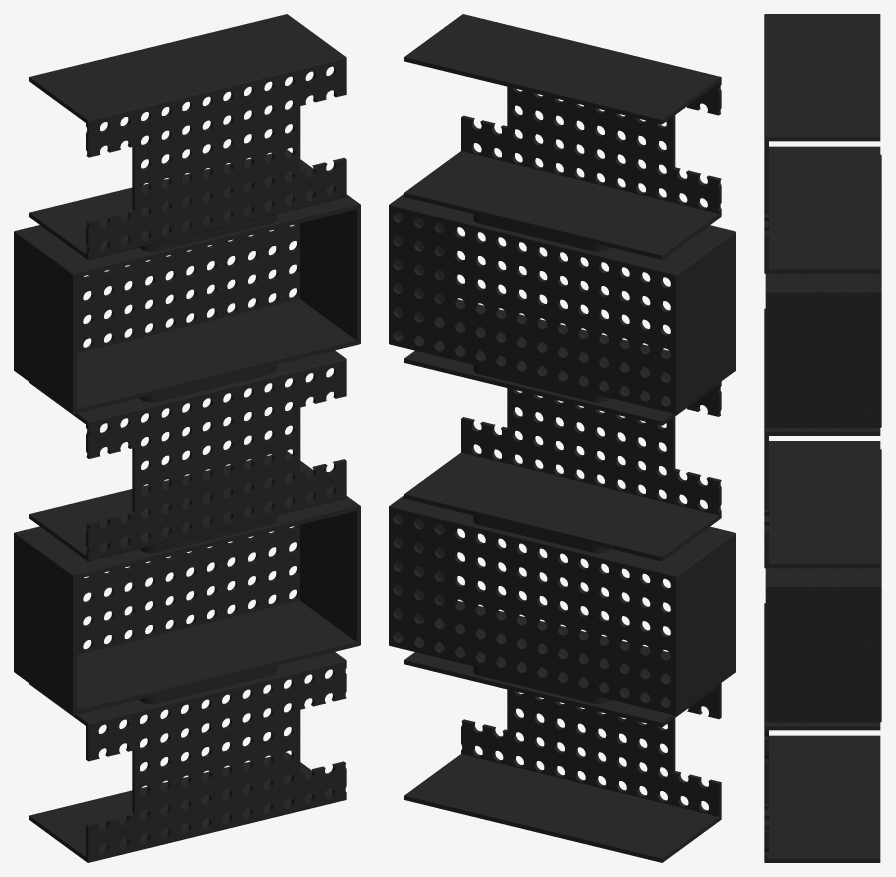
Rendered from Chassis.obj.
3 views of the same model, side by side, from view 1: azimuth 30°, elevation 25°; view 2: azimuth 150°, elevation 25°; view 3: azimuth 270°, elevation 25° (orthographic). The views are drawn at different scales.
Visible parts, largest first — view 1: Chassis_Low_visual; view 2: Chassis_Low_visual; view 3: Chassis_Low_visual.
Boxes of the visible parts, box(x1,y1,x2,y2) form: Chassis_Low_visual: box(14, 14, 360, 862); Chassis_Low_visual: box(389, 14, 735, 862); Chassis_Low_visual: box(764, 14, 881, 862).
Size of the model in its own units: 0.14 by 0.345 by 0.0505.
Materials: 1 (1 with a texture image).
